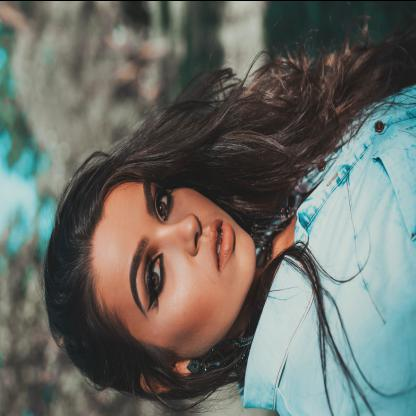Eye: (144, 244, 165, 306), (149, 186, 173, 221)
Mouth: (209, 209, 236, 270)
Nose: (166, 214, 204, 258)
